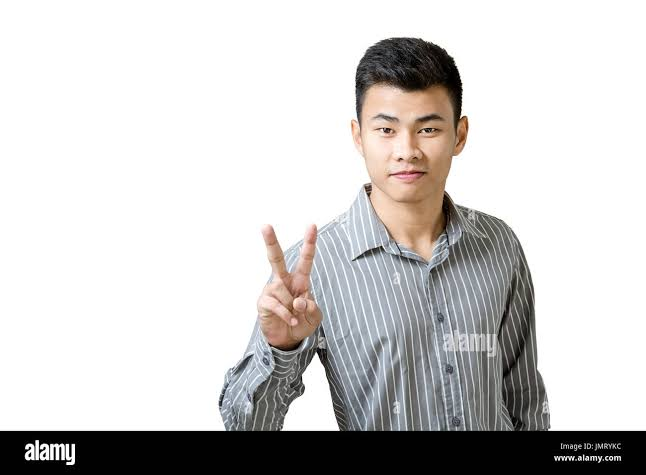peace_sign: (255, 220, 325, 348)
